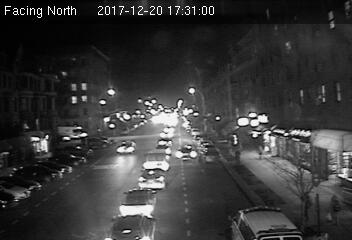car: (105, 215, 157, 240), (120, 187, 160, 217), (136, 169, 168, 192), (143, 150, 169, 171), (176, 143, 198, 161), (115, 141, 137, 155), (201, 151, 220, 163)
police: (227, 203, 312, 239)
